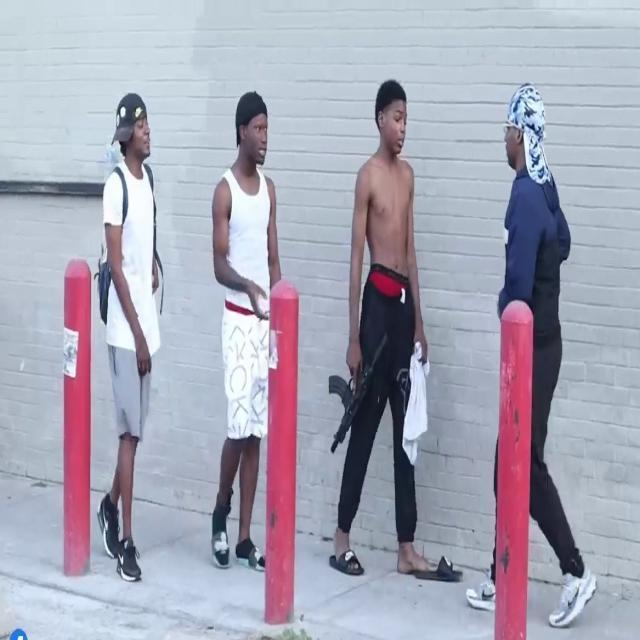Rifle: (328, 320, 400, 469)
